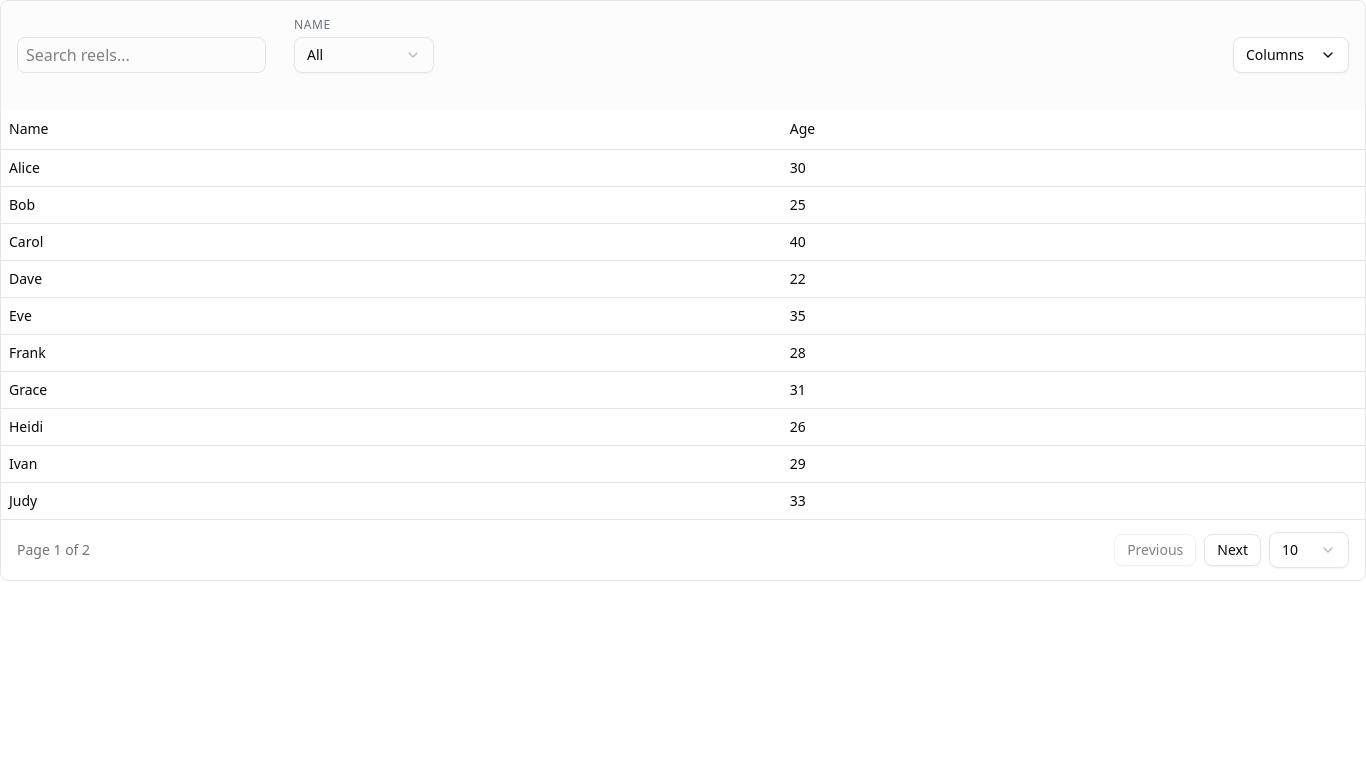
Test: DataTable › applies and clears a per-column filter
Click the dropdown labelled "All": (364, 55) [294,37,434,73]
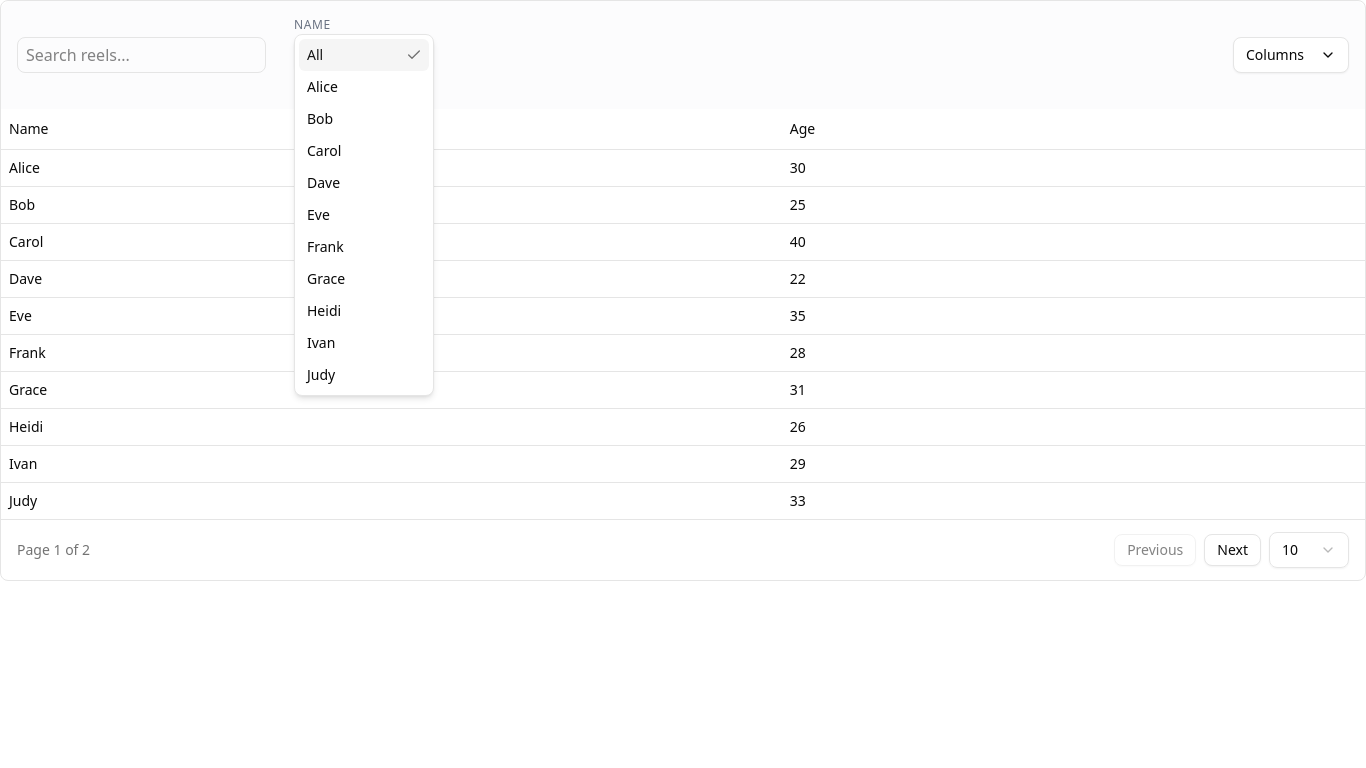
Click the option "Alice": (322, 86) [307,77,338,96]
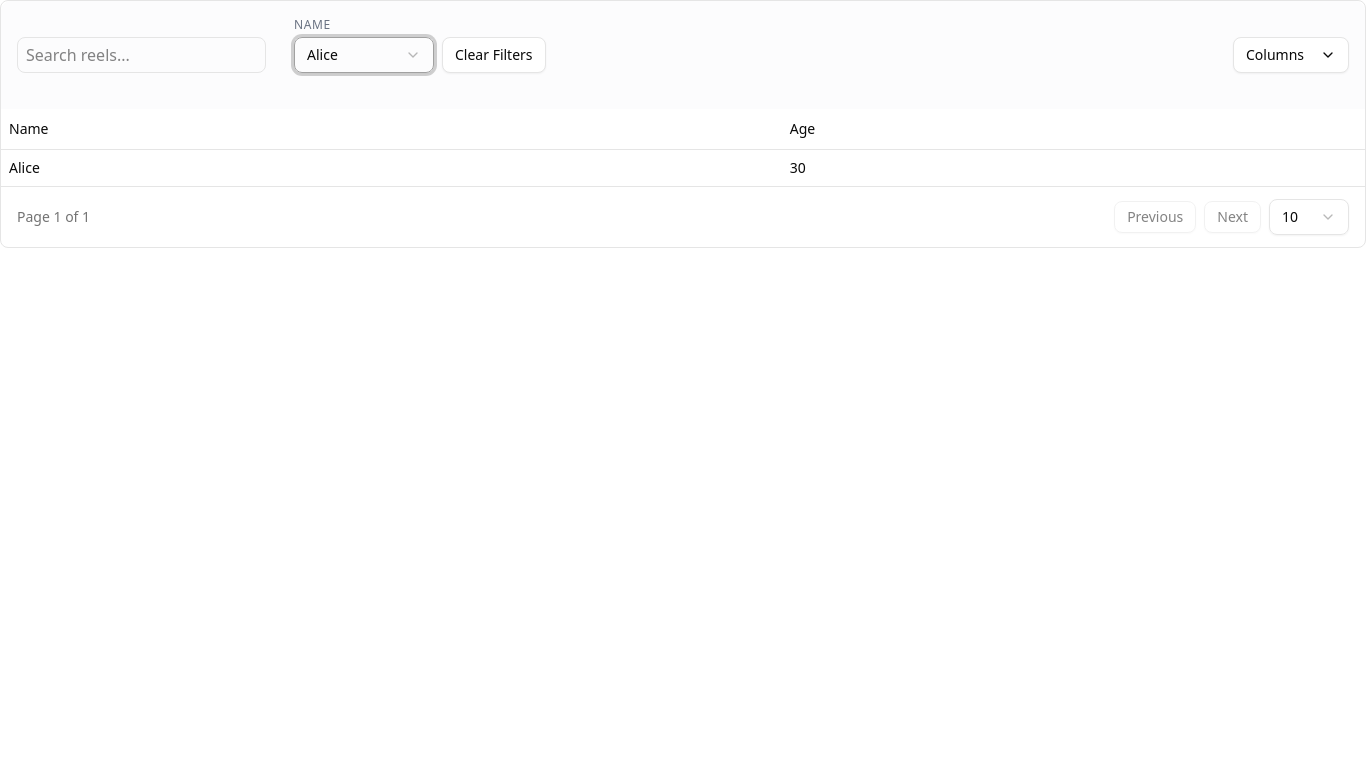
Now the number of rows is 2, box [1,109,1365,149]; [1,149,1365,186]
Now the text "Alice" is shown, box [307,45,338,65]
Now the text "Bob" is gone
Click the button "Clear Filters": (494, 55) [442,37,546,73]
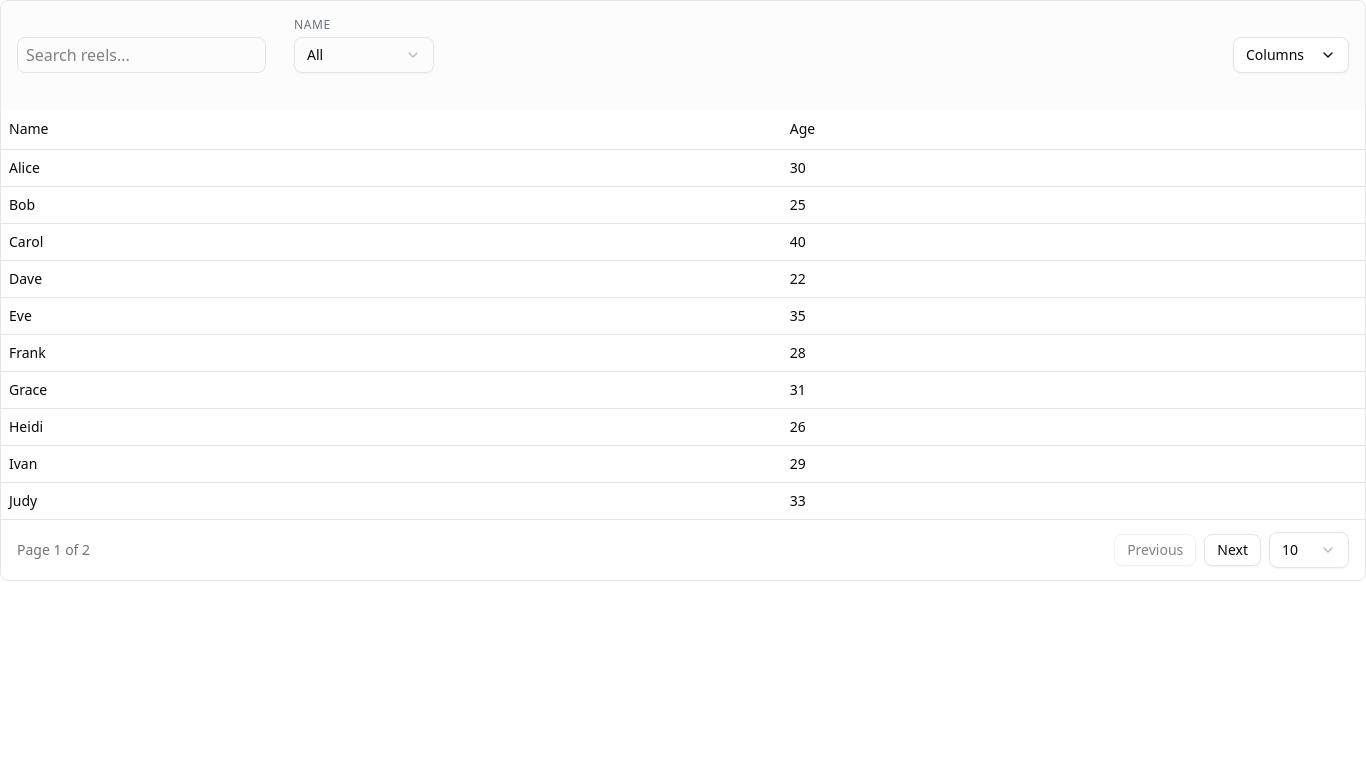
Now the number of rows is 11
